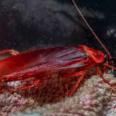cockroach: (1, 46, 108, 86)
